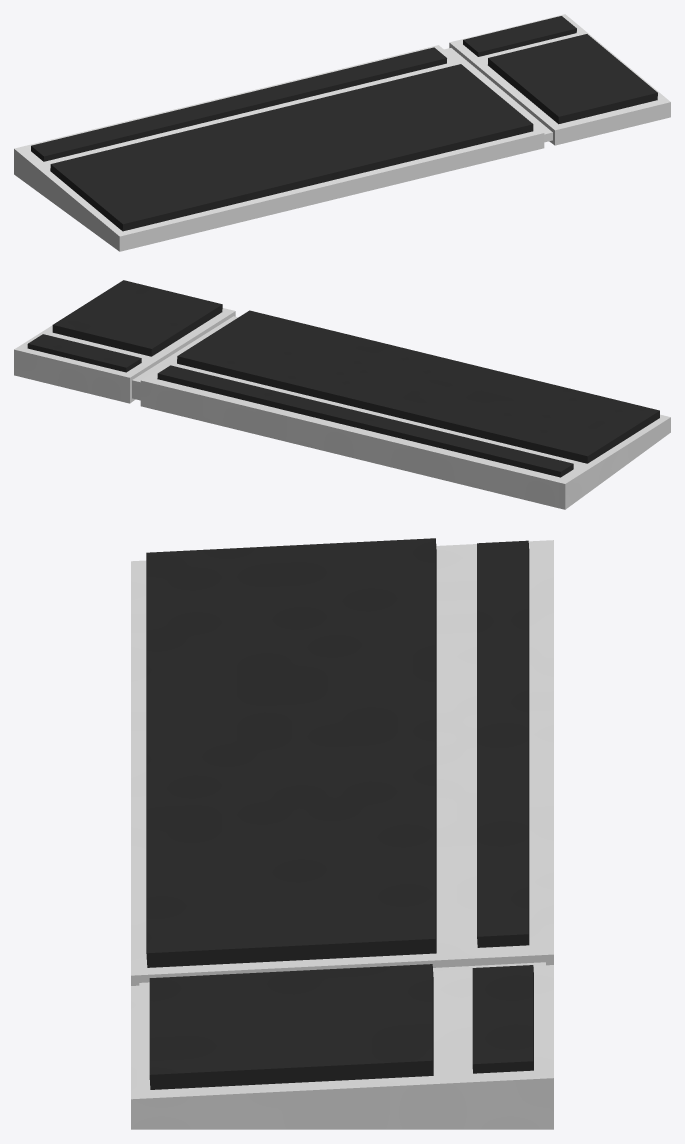
File: Keyboard_02.fbx
The picture shows the model from 3 angles, top to bottom: view 1: azimuth 30°, elevation 25°; view 2: azimuth 150°, elevation 25°; view 3: azimuth 270°, elevation 25°; orthographic projection. The views are drawn at different scales.
Visible parts, largest first — view 1: Keyboard_02; view 2: Keyboard_02; view 3: Keyboard_02.
Part boxes in pixels (left/top/right/bottom): Keyboard_02: left=14, top=14, right=670, bottom=251; Keyboard_02: left=14, top=280, right=670, bottom=509; Keyboard_02: left=131, top=538, right=553, bottom=1129.
Size of the model in its own units: 0.6744 by 0.036 by 0.2241.
